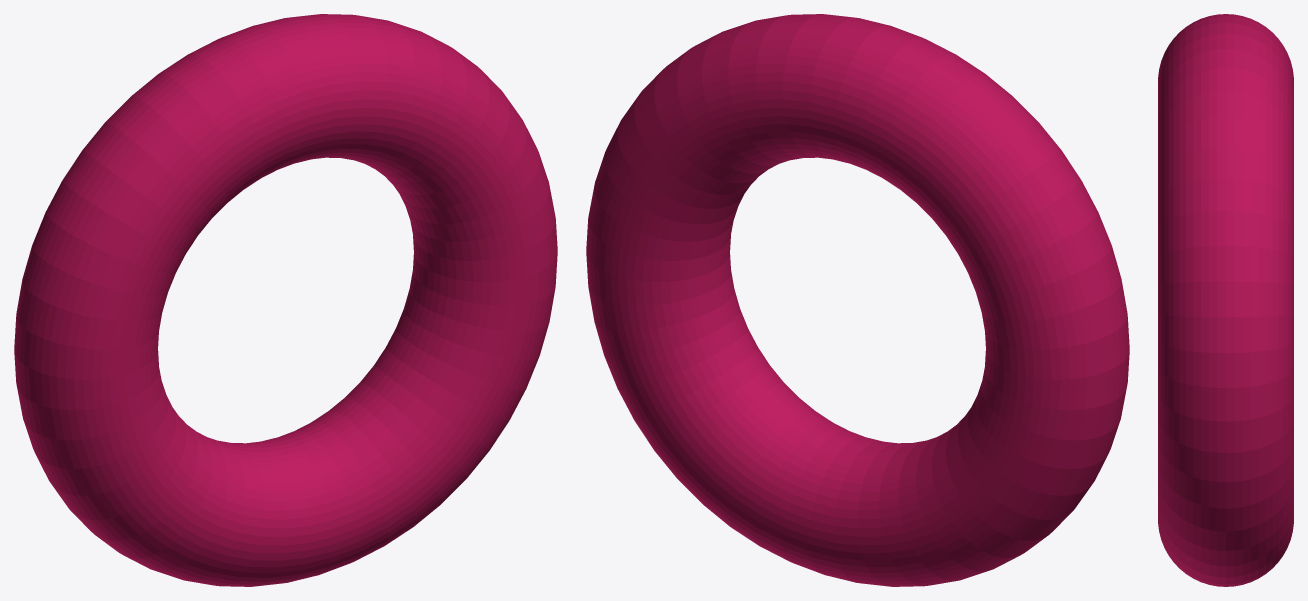
The picture shows the model from 3 angles, left to right: view 1: azimuth 30°, elevation 25°; view 2: azimuth 150°, elevation 25°; view 3: azimuth 270°, elevation 25°; orthographic projection. The views are drawn at different scales.
Visible parts, largest first — view 1: world; view 2: world; view 3: world.
Boxes of the visible parts, bbox=[...] form: world: bbox=[14, 14, 557, 586]; world: bbox=[586, 14, 1129, 586]; world: bbox=[1158, 14, 1293, 586].
Size of the model in its own units: 37.6 by 37.53 by 8.92.
